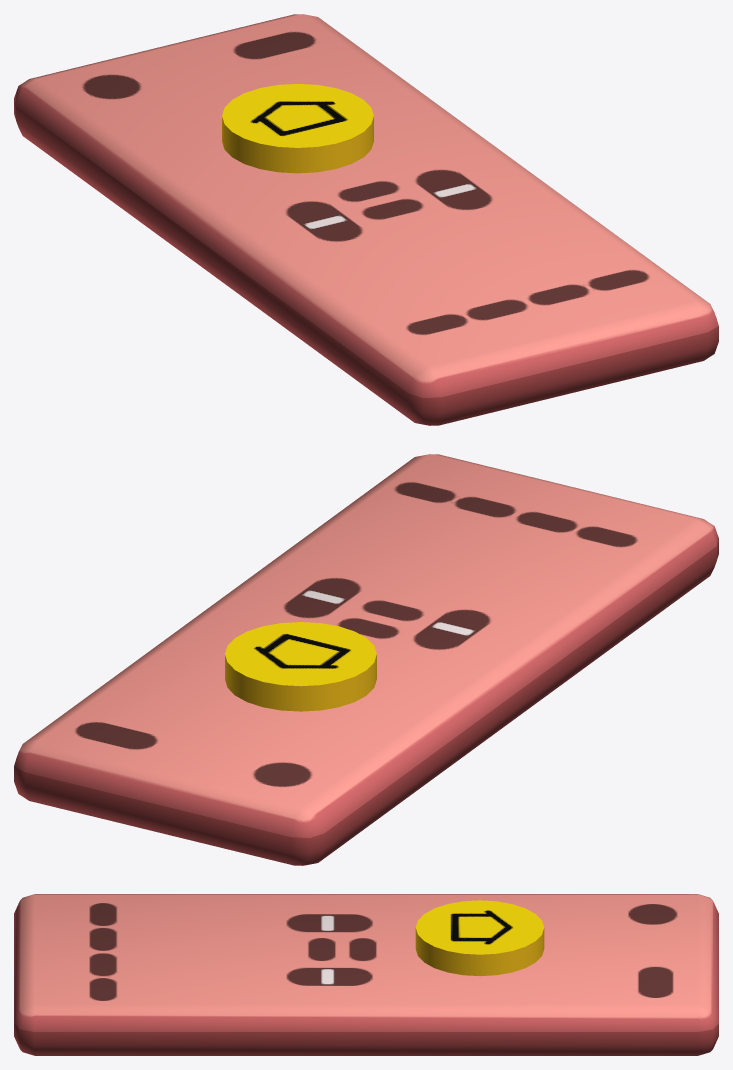
Rendered from 3d_TV_remote.fbx.
The picture shows the model from 3 angles, top to bottom: view 1: azimuth 30°, elevation 25°; view 2: azimuth 150°, elevation 25°; view 3: azimuth 270°, elevation 25°; orthographic projection. The views are drawn at different scales.
Parts seen in each view (by area): view 1: 3d_TV_remote, 3d_TV_remote_button; view 2: 3d_TV_remote, 3d_TV_remote_button; view 3: 3d_TV_remote, 3d_TV_remote_button.
Part boxes in pixels (x1,y1,x2,y2): 3d_TV_remote: [14, 14, 718, 425]; 3d_TV_remote_button: [222, 83, 373, 173]; 3d_TV_remote: [14, 454, 718, 865]; 3d_TV_remote_button: [225, 622, 376, 711]; 3d_TV_remote: [14, 894, 718, 1055]; 3d_TV_remote_button: [415, 900, 544, 976].
Size of the model in its own units: 0.1117 by 0.0296 by 0.2618.
